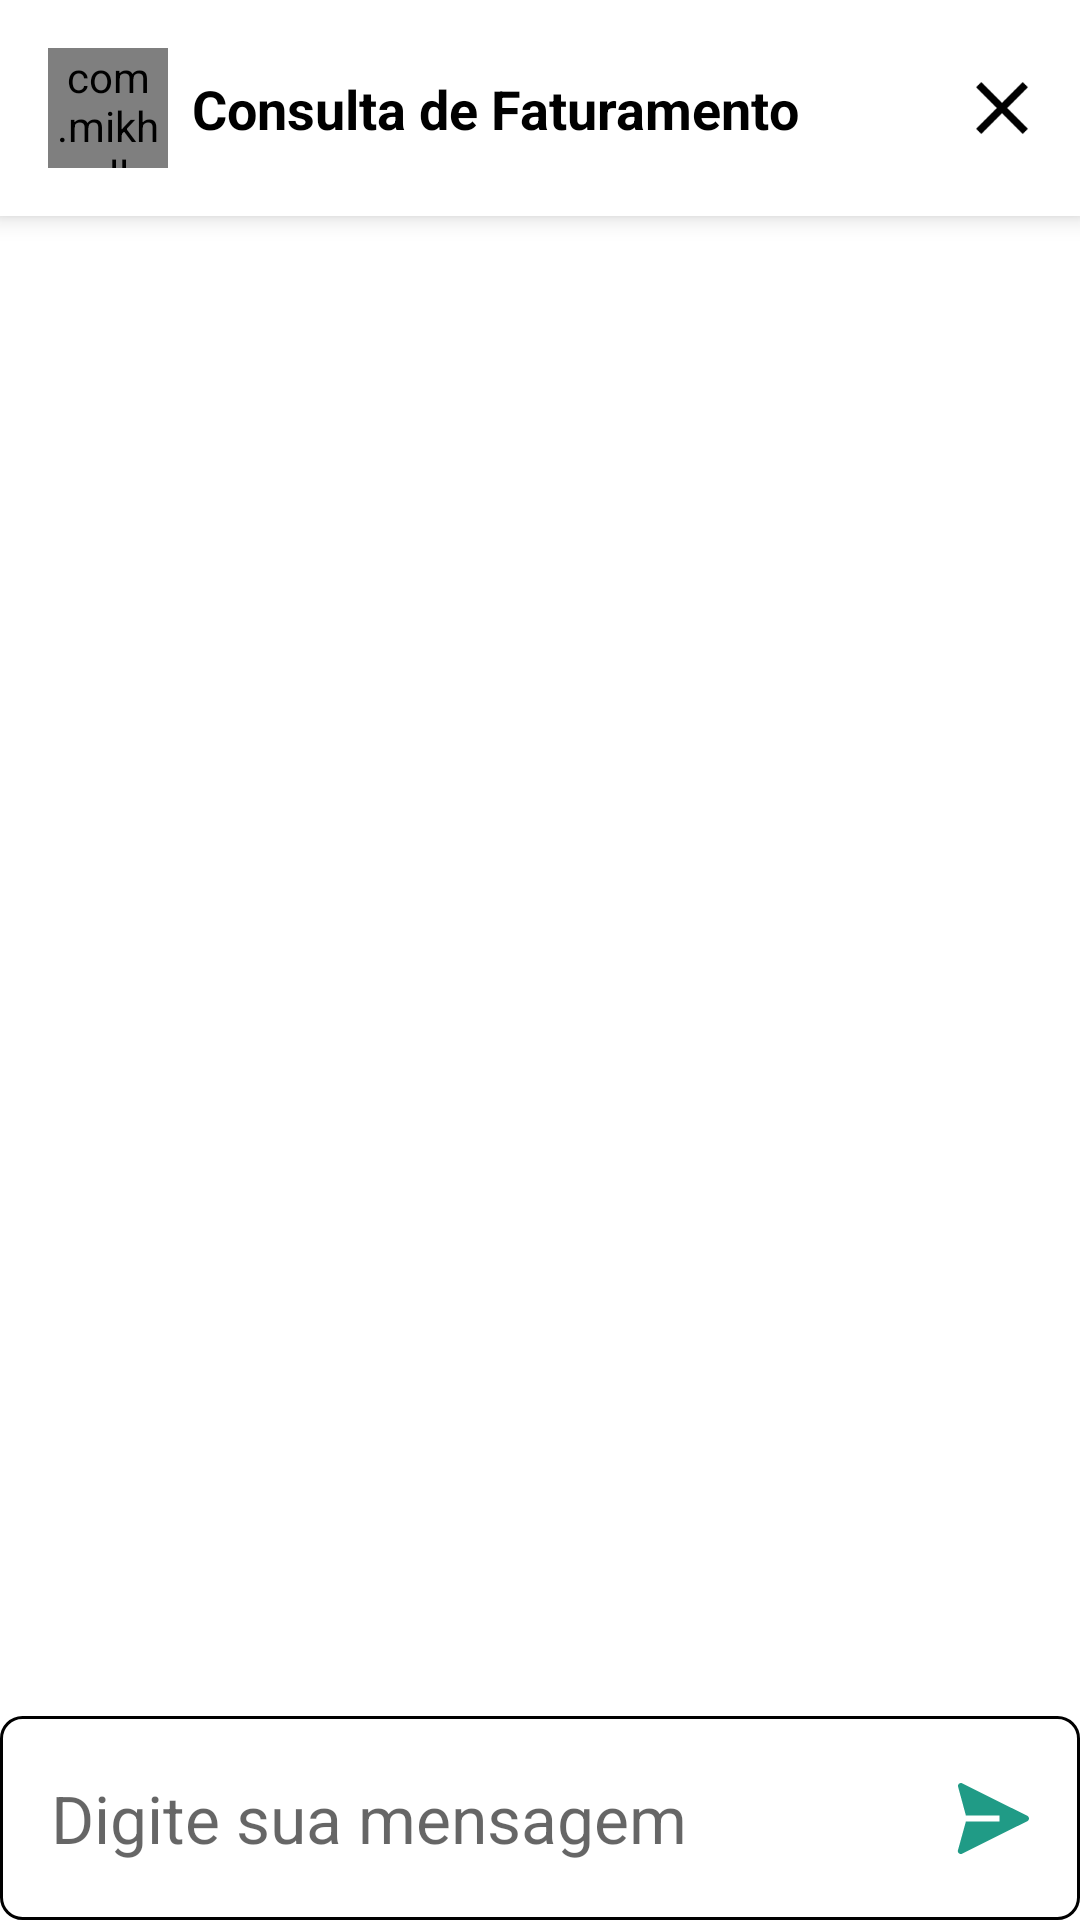

Icons on this 1080px x 1920px Android screen, each with its box as (x1, y1, x2, y2):
close: (976, 82, 1028, 134)
send message: (957, 1783, 1029, 1854)
